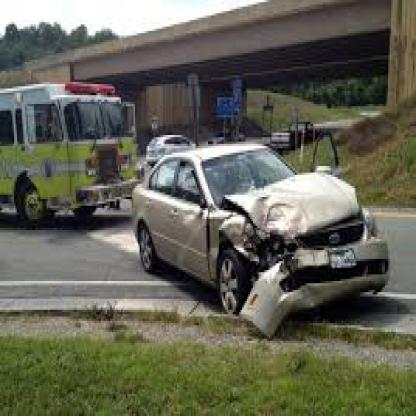accident: (215, 174, 400, 350)
